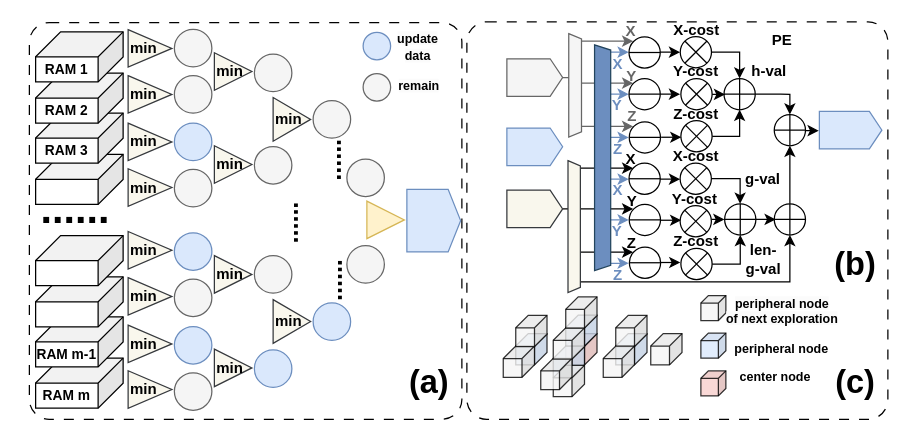
The diagram is 910 pixels wide and 443 high, and some of its shapes have lost their labels. The shapes that lost their labels are listed below. From the top down, each one's box as (x1, y1, x2, y2) in pixels, then its label:
(506, 58, 563, 96): end- node
(506, 127, 563, 166): per- node
(818, 110, 882, 149): f- value
(406, 188, 461, 252): cost _min _last
(506, 189, 563, 228): cen- node
